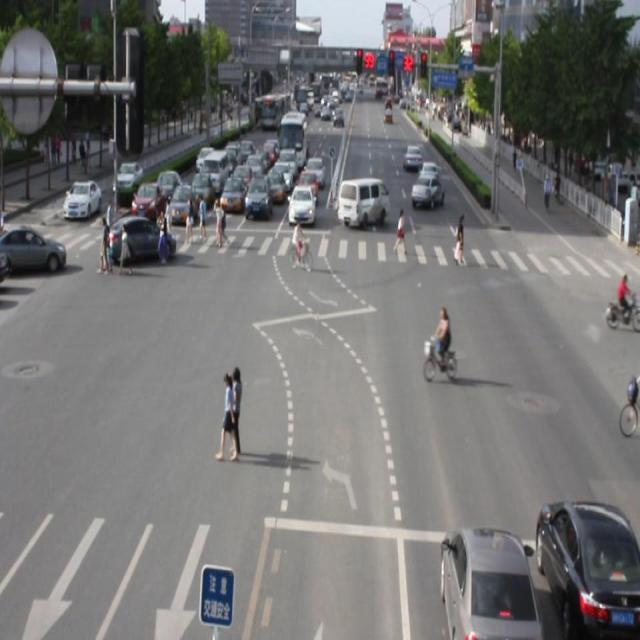car: (528, 496, 640, 640), (436, 516, 540, 640), (5, 215, 68, 285), (102, 212, 180, 263), (331, 175, 388, 232), (64, 160, 108, 224), (127, 166, 163, 218), (290, 178, 315, 242), (242, 177, 274, 224), (281, 110, 307, 166), (170, 178, 198, 228), (218, 180, 248, 218), (202, 146, 235, 178), (192, 172, 217, 212), (115, 164, 150, 192), (304, 147, 329, 186), (417, 175, 444, 211), (266, 166, 289, 203)
